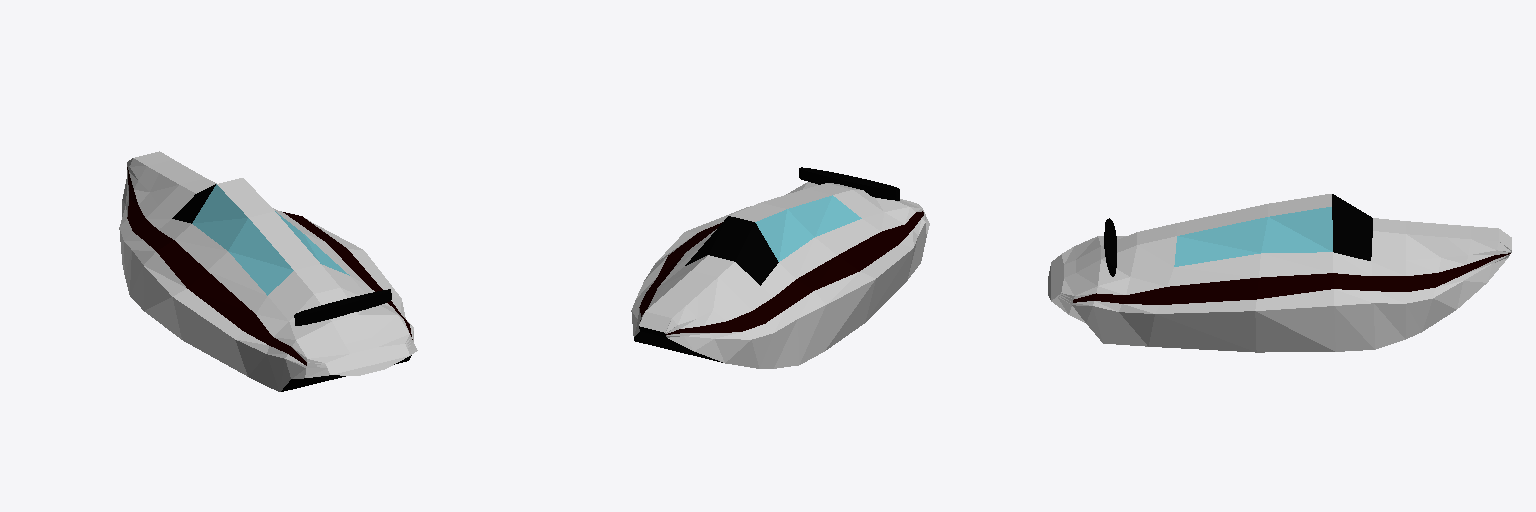
The model's file is boat.obj.
3 views of the same model, side by side, from view 1: azimuth 30°, elevation 25°; view 2: azimuth 150°, elevation 25°; view 3: azimuth 270°, elevation 25° (orthographic).
Parts seen in each view (by area): view 1: Plane, BezierCurve; view 2: Plane, BezierCurve; view 3: Plane, BezierCurve.
Boxes of the visible parts, box(x1,y1,x2,y2) form: Plane: box(119, 151, 417, 391); BezierCurve: box(294, 289, 391, 325); Plane: box(631, 182, 929, 368); BezierCurve: box(799, 167, 899, 200); Plane: box(1048, 194, 1511, 352); BezierCurve: box(1104, 218, 1116, 276).
Bounding box in the file's own units: 4.01 × 2.25 × 8.43.